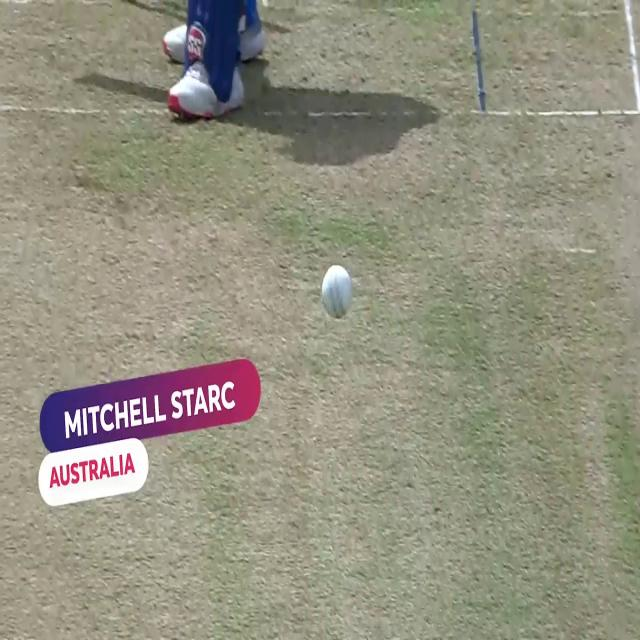ball: (314, 256, 362, 328)
